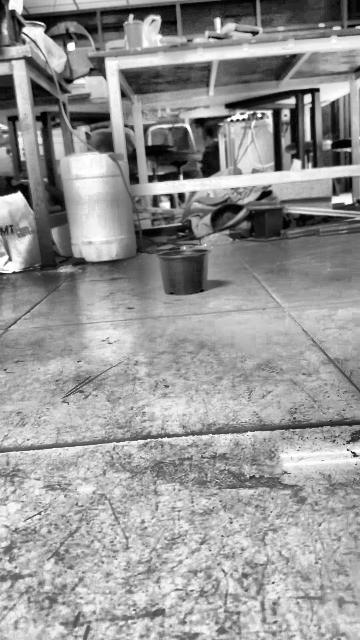pot: (156, 248, 210, 295)
